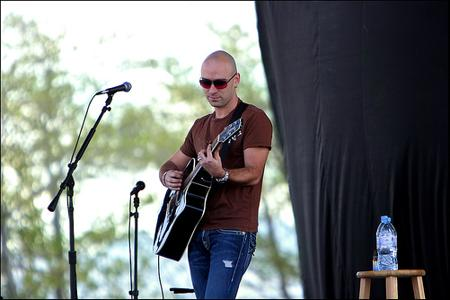person: (159, 49, 272, 299)
